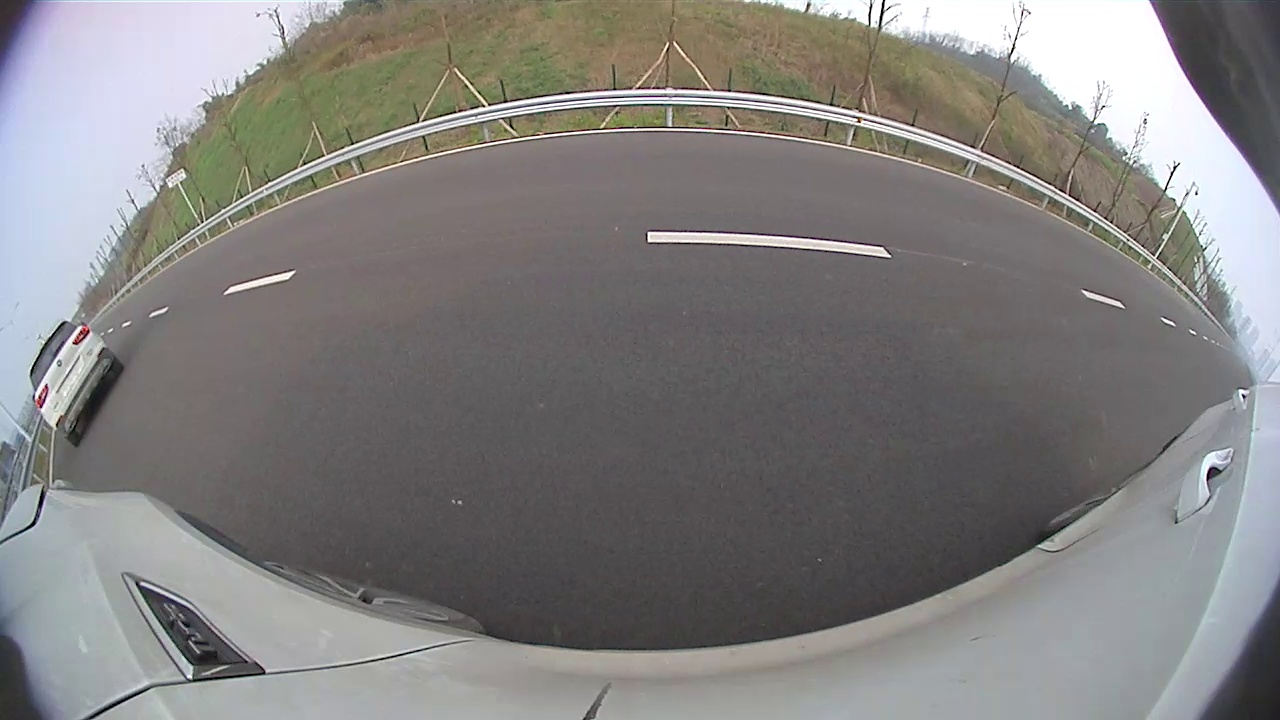car: (1072, 248, 1179, 374)
